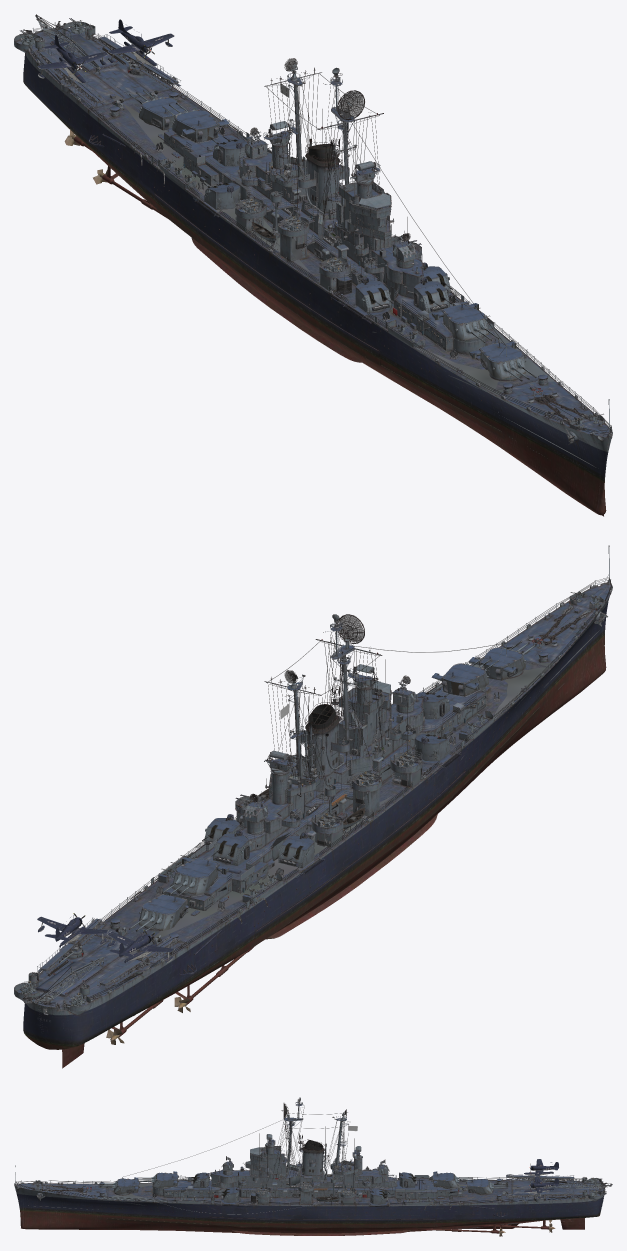
The model's file is uss_fargo_war_thunder-maximum-compressed.glb.
3 views of the same model, one above another, from view 1: azimuth 30°, elevation 25°; view 2: azimuth 150°, elevation 25°; view 3: azimuth 270°, elevation 25° (orthographic). The views are drawn at different scales.
Visible parts, largest first — view 1: Object_31, Object_18, Object_75, Object_74, Object_6, Object_20, Object_27, Object_54, Object_63, Object_34, Object_68, Object_66 (+22 smaller); view 2: Object_31, Object_18, Object_75, Object_74, Object_6, Object_20, Object_68, Object_27, Object_54, Object_34, Object_66, Object_50 (+23 smaller); view 3: Object_31, Object_18, Object_75, Object_6, Object_20, Object_74, Object_54, Object_63, Object_68, Object_66, Object_27, Object_65 (+21 smaller).
Part boxes in pixels (x1=…): Object_31: x1=23, y1=52, x2=608, y2=480; Object_18: x1=48, y1=41, x2=606, y2=516; Object_75: x1=29, y1=27, x2=611, y2=437; Object_74: x1=16, y1=39, x2=580, y2=418; Object_6: x1=93, y1=89, x2=538, y2=391; Object_20: x1=28, y1=15, x2=611, y2=434; Object_27: x1=36, y1=68, x2=606, y2=479; Object_54: x1=25, y1=22, x2=612, y2=451; Object_63: x1=323, y1=234, x2=485, y2=350; Object_34: x1=142, y1=97, x2=522, y2=362; Object_68: x1=237, y1=142, x2=328, y2=235; Object_66: x1=325, y1=180, x2=391, y2=262; Object_31: x1=23, y1=602, x2=608, y2=1045; Object_18: x1=24, y1=601, x2=606, y2=1068; Object_75: x1=17, y1=583, x2=611, y2=1011; Object_74: x1=69, y1=608, x2=580, y2=1010; Object_6: x1=95, y1=661, x2=547, y2=954; Object_20: x1=33, y1=577, x2=611, y2=1005; Object_68: x1=239, y1=756, x2=351, y2=851; Object_27: x1=49, y1=606, x2=599, y2=1044; Object_54: x1=22, y1=582, x2=612, y2=1015; Object_34: x1=142, y1=647, x2=522, y2=914; Object_66: x1=338, y1=685, x2=391, y2=762; Object_50: x1=345, y1=612, x2=607, y2=787; Object_31: x1=16, y1=1194, x2=604, y2=1222; Object_18: x1=20, y1=1124, x2=600, y2=1235; Object_75: x1=16, y1=1172, x2=604, y2=1205; Object_6: x1=107, y1=1180, x2=512, y2=1204; Object_20: x1=15, y1=1106, x2=610, y2=1206; Object_74: x1=47, y1=1139, x2=600, y2=1202; Object_54: x1=14, y1=1178, x2=606, y2=1206; Object_63: x1=163, y1=1167, x2=300, y2=1198; Object_68: x1=300, y1=1157, x2=396, y2=1188; Object_66: x1=249, y1=1145, x2=300, y2=1187; Object_27: x1=18, y1=1147, x2=592, y2=1228; Object_65: x1=238, y1=1182, x2=387, y2=1198.
Size of the model in its own units: 25.55 by 45.95 by 188.
32 materials, 32 textured.
